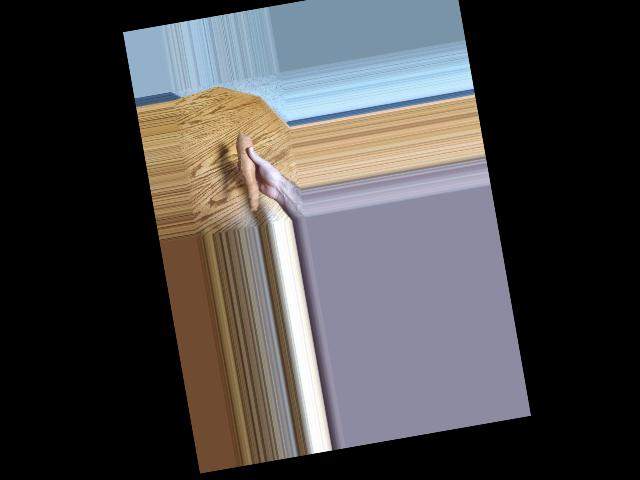sweet_potato: (232, 134, 267, 212)
